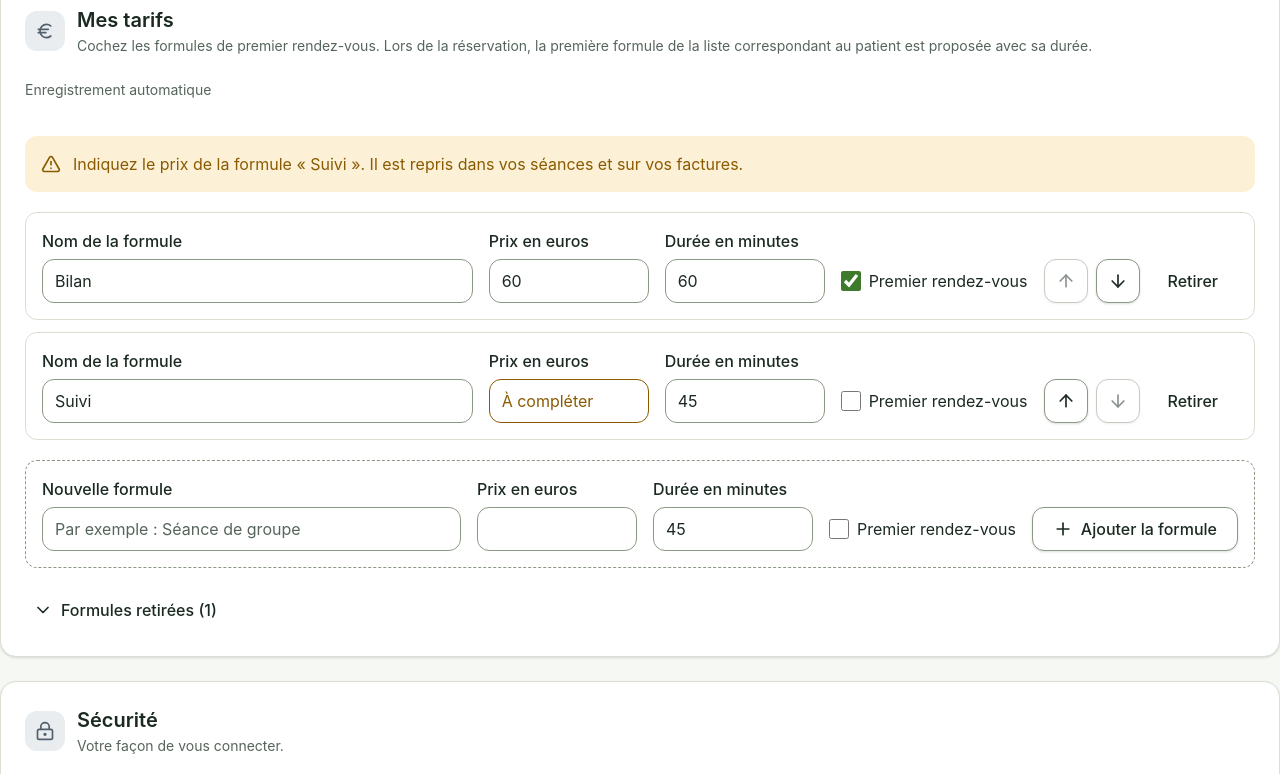
Test: SettingsPage › shows and saves the duration of each type of appointment
(page scrolled)
Step 1. Replace the text in the 2nd field labelled "Durée en minutes" with "50" → (745, 400), box [665,378,825,422]
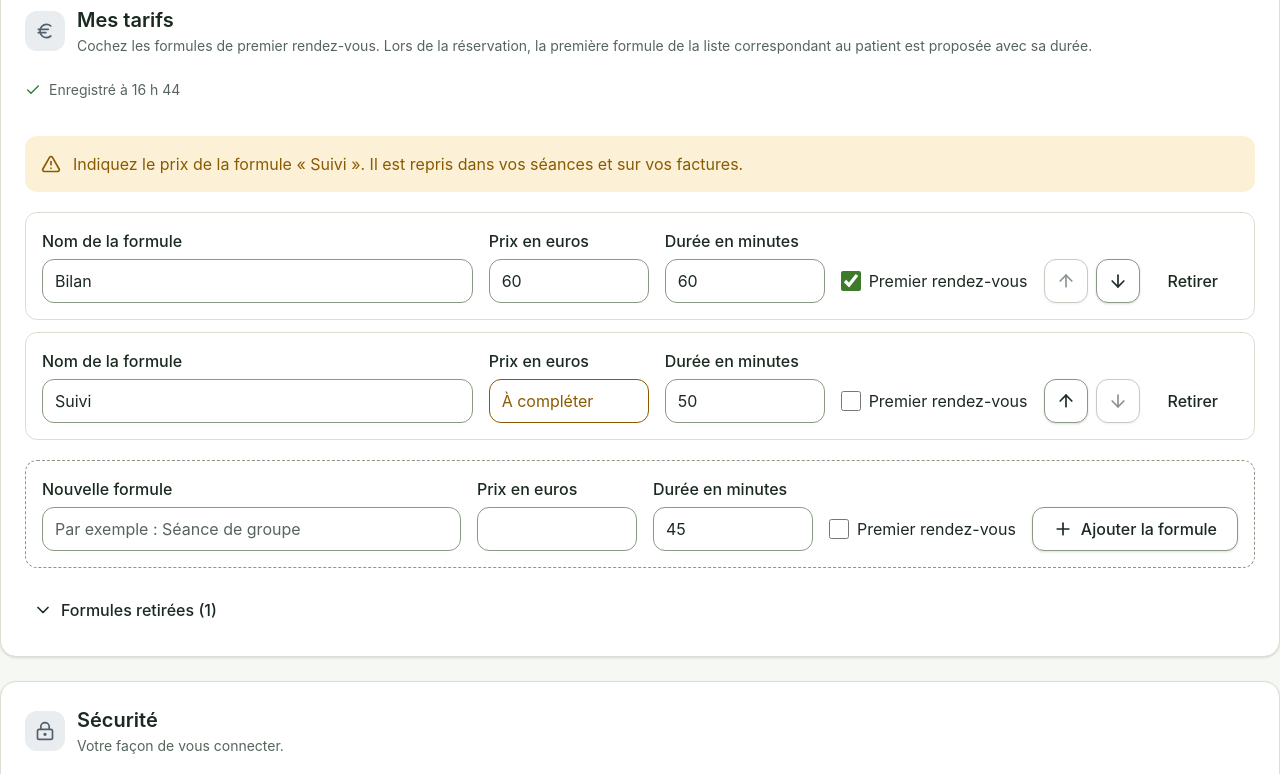
Step 2. Clear the 1st field labelled "Durée en minutes" → (745, 280), box [665,258,825,302]
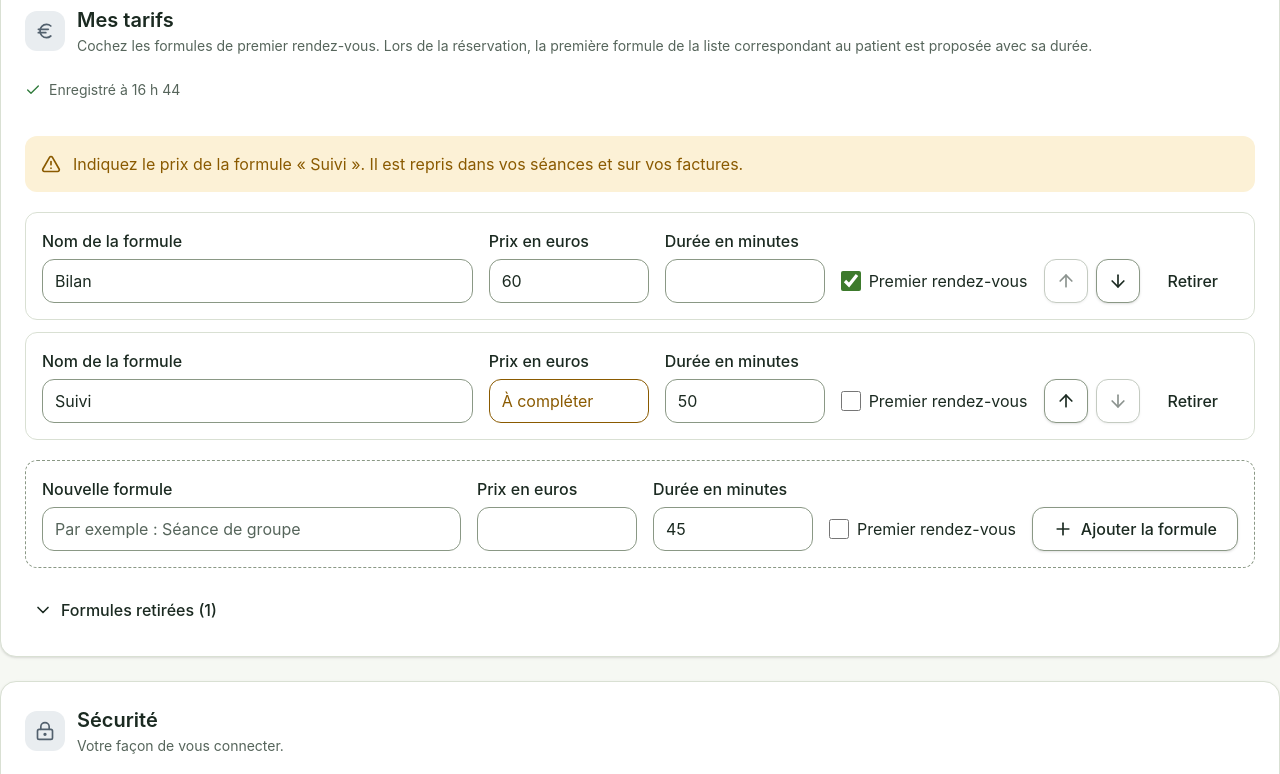
Step 3. Leave the 1st field labelled "Durée en minutes", box [665,258,825,302]
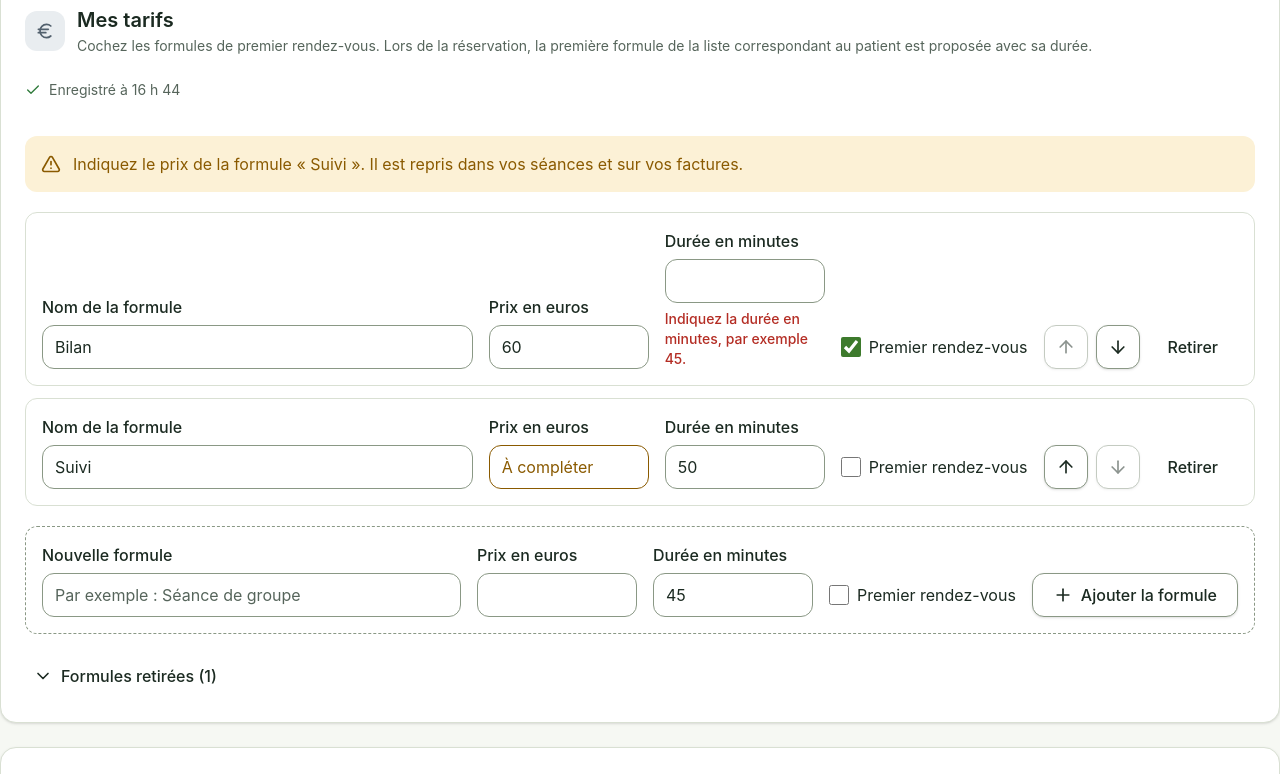
Now the text "Indiquez la durée en minutes, par exemple 45." is shown, box [665,308,825,368]
